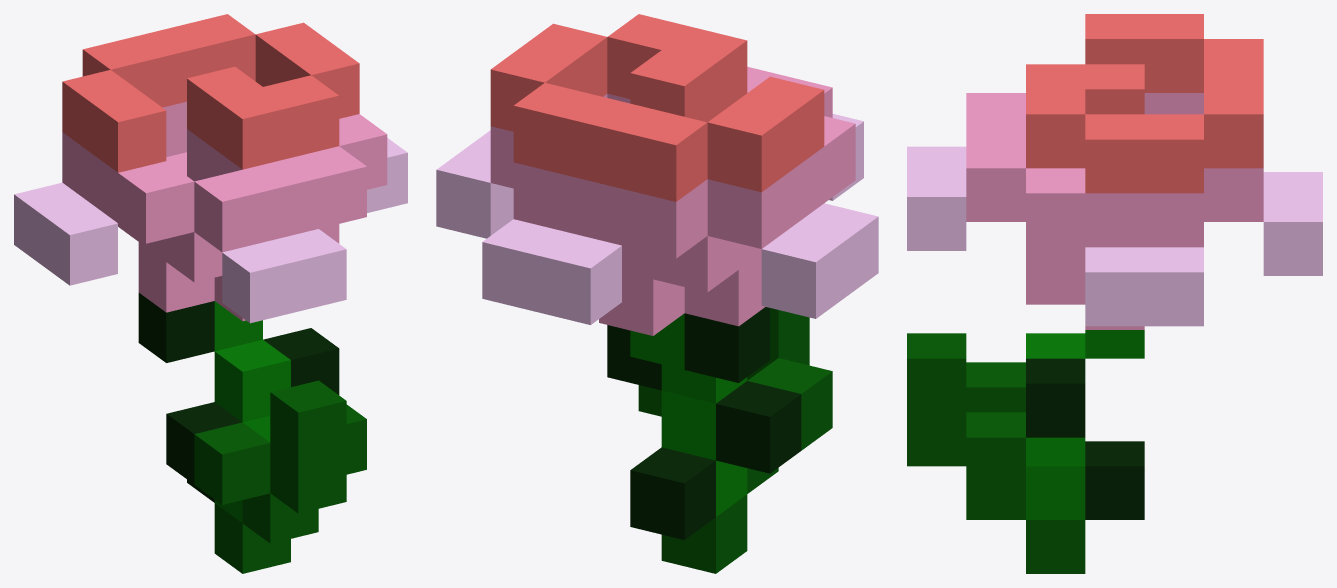
Rendered from flower-7.glb.
3 renders of one model, left to right at view 1: azimuth 30°, elevation 25°; view 2: azimuth 150°, elevation 25°; view 3: azimuth 270°, elevation 25°, orthographic. The views are drawn at different scales.
Parts seen in each view (by area): view 1: Node1; view 2: Node1; view 3: Node1.
Part boxes in pixels (x1=…): Node1: x1=14, y1=14, x2=407, y2=573; Node1: x1=436, y1=14, x2=878, y2=573; Node1: x1=907, y1=14, x2=1322, y2=573.
Size of the model in its own units: 0.7 by 0.9 by 0.7.
